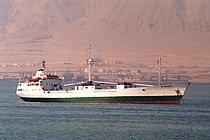Ship: (15, 67, 193, 111)
